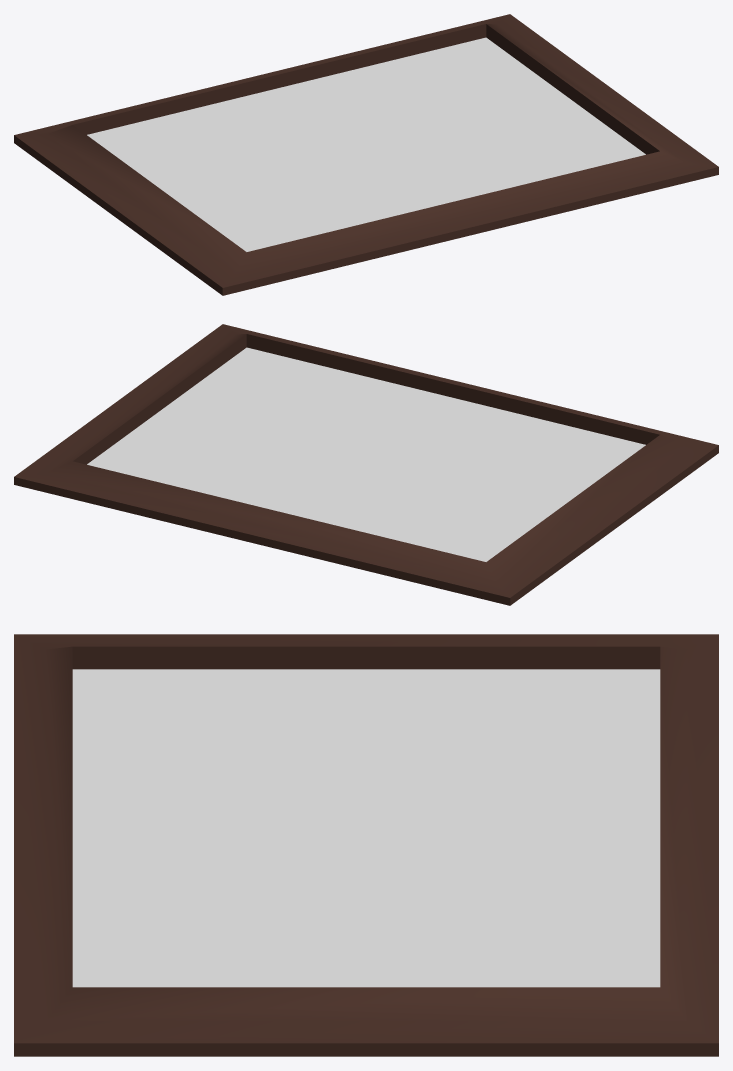
File: painting01.fbx
3 views of the same model, one above another, from view 1: azimuth 30°, elevation 25°; view 2: azimuth 150°, elevation 25°; view 3: azimuth 270°, elevation 25° (orthographic). The views are drawn at different scales.
Parts seen in each view (by area): view 1: pCube1; view 2: pCube1; view 3: pCube1.
Boxes of the visible parts, box(x1,y1,x2,y2) form: pCube1: box(14, 14, 718, 295); pCube1: box(14, 324, 718, 605); pCube1: box(14, 634, 718, 1056).
Size of the model in its own units: 22 by 0.8859 by 16.04.
